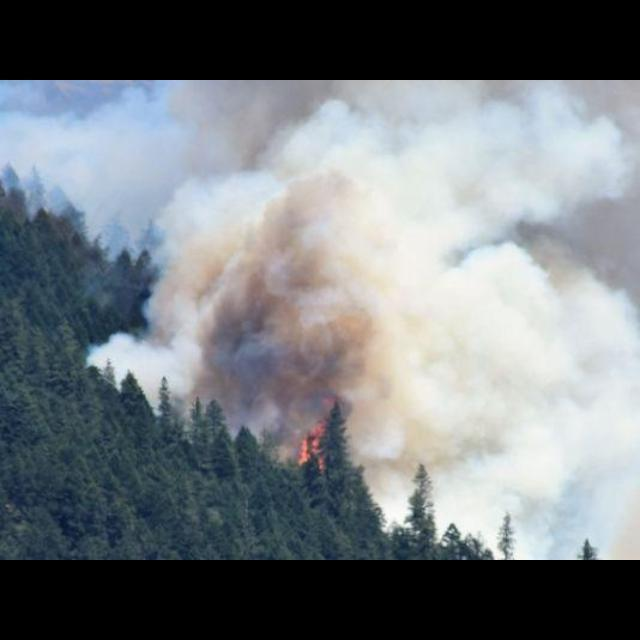Fire: (296, 419, 328, 475)
Smoke: (2, 81, 640, 419), (347, 426, 640, 560)
